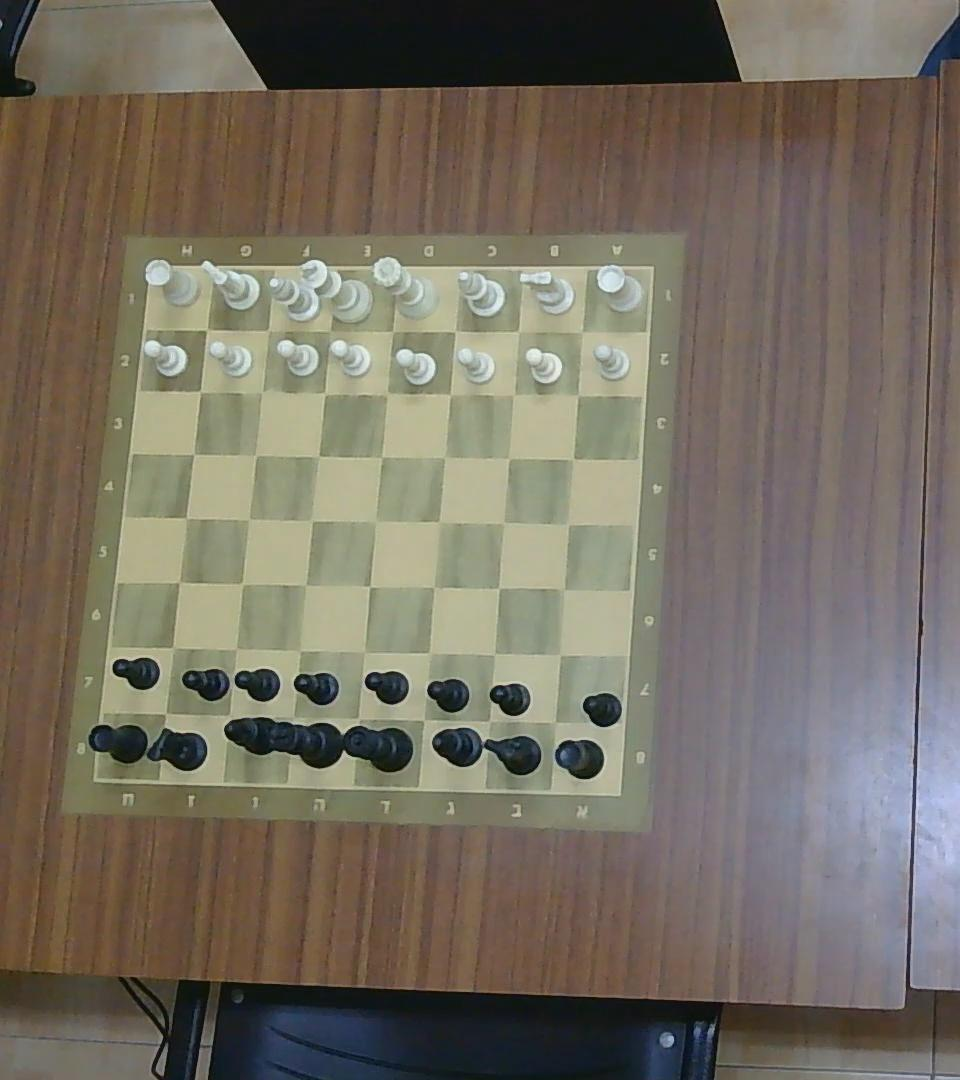xcorner: (344, 707, 370, 733), (379, 318, 403, 342), (154, 701, 178, 725), (217, 703, 240, 727), (543, 711, 568, 733), (477, 709, 501, 731), (319, 319, 341, 341), (162, 637, 184, 658), (288, 639, 310, 659), (246, 443, 266, 464), (169, 571, 189, 592), (413, 710, 434, 730), (365, 511, 386, 531), (280, 707, 301, 727), (445, 320, 465, 340), (483, 644, 503, 664), (225, 639, 245, 659), (183, 443, 202, 464), (376, 383, 395, 403), (296, 575, 315, 595), (440, 383, 459, 403), (259, 320, 278, 340), (504, 383, 523, 403), (423, 577, 442, 597), (420, 643, 440, 662), (429, 511, 448, 531), (555, 578, 573, 599), (372, 447, 391, 466), (177, 508, 196, 527), (196, 319, 215, 338), (564, 449, 583, 468), (559, 513, 578, 532), (550, 645, 569, 664), (354, 642, 374, 660), (315, 383, 333, 402), (361, 577, 379, 596), (510, 321, 528, 340), (573, 321, 591, 340), (495, 513, 513, 532), (233, 574, 251, 593), (570, 385, 588, 404), (489, 579, 507, 598), (435, 448, 453, 466), (500, 448, 518, 466), (190, 382, 208, 400), (240, 510, 258, 528), (253, 382, 271, 400), (309, 447, 326, 466), (303, 510, 320, 529)
